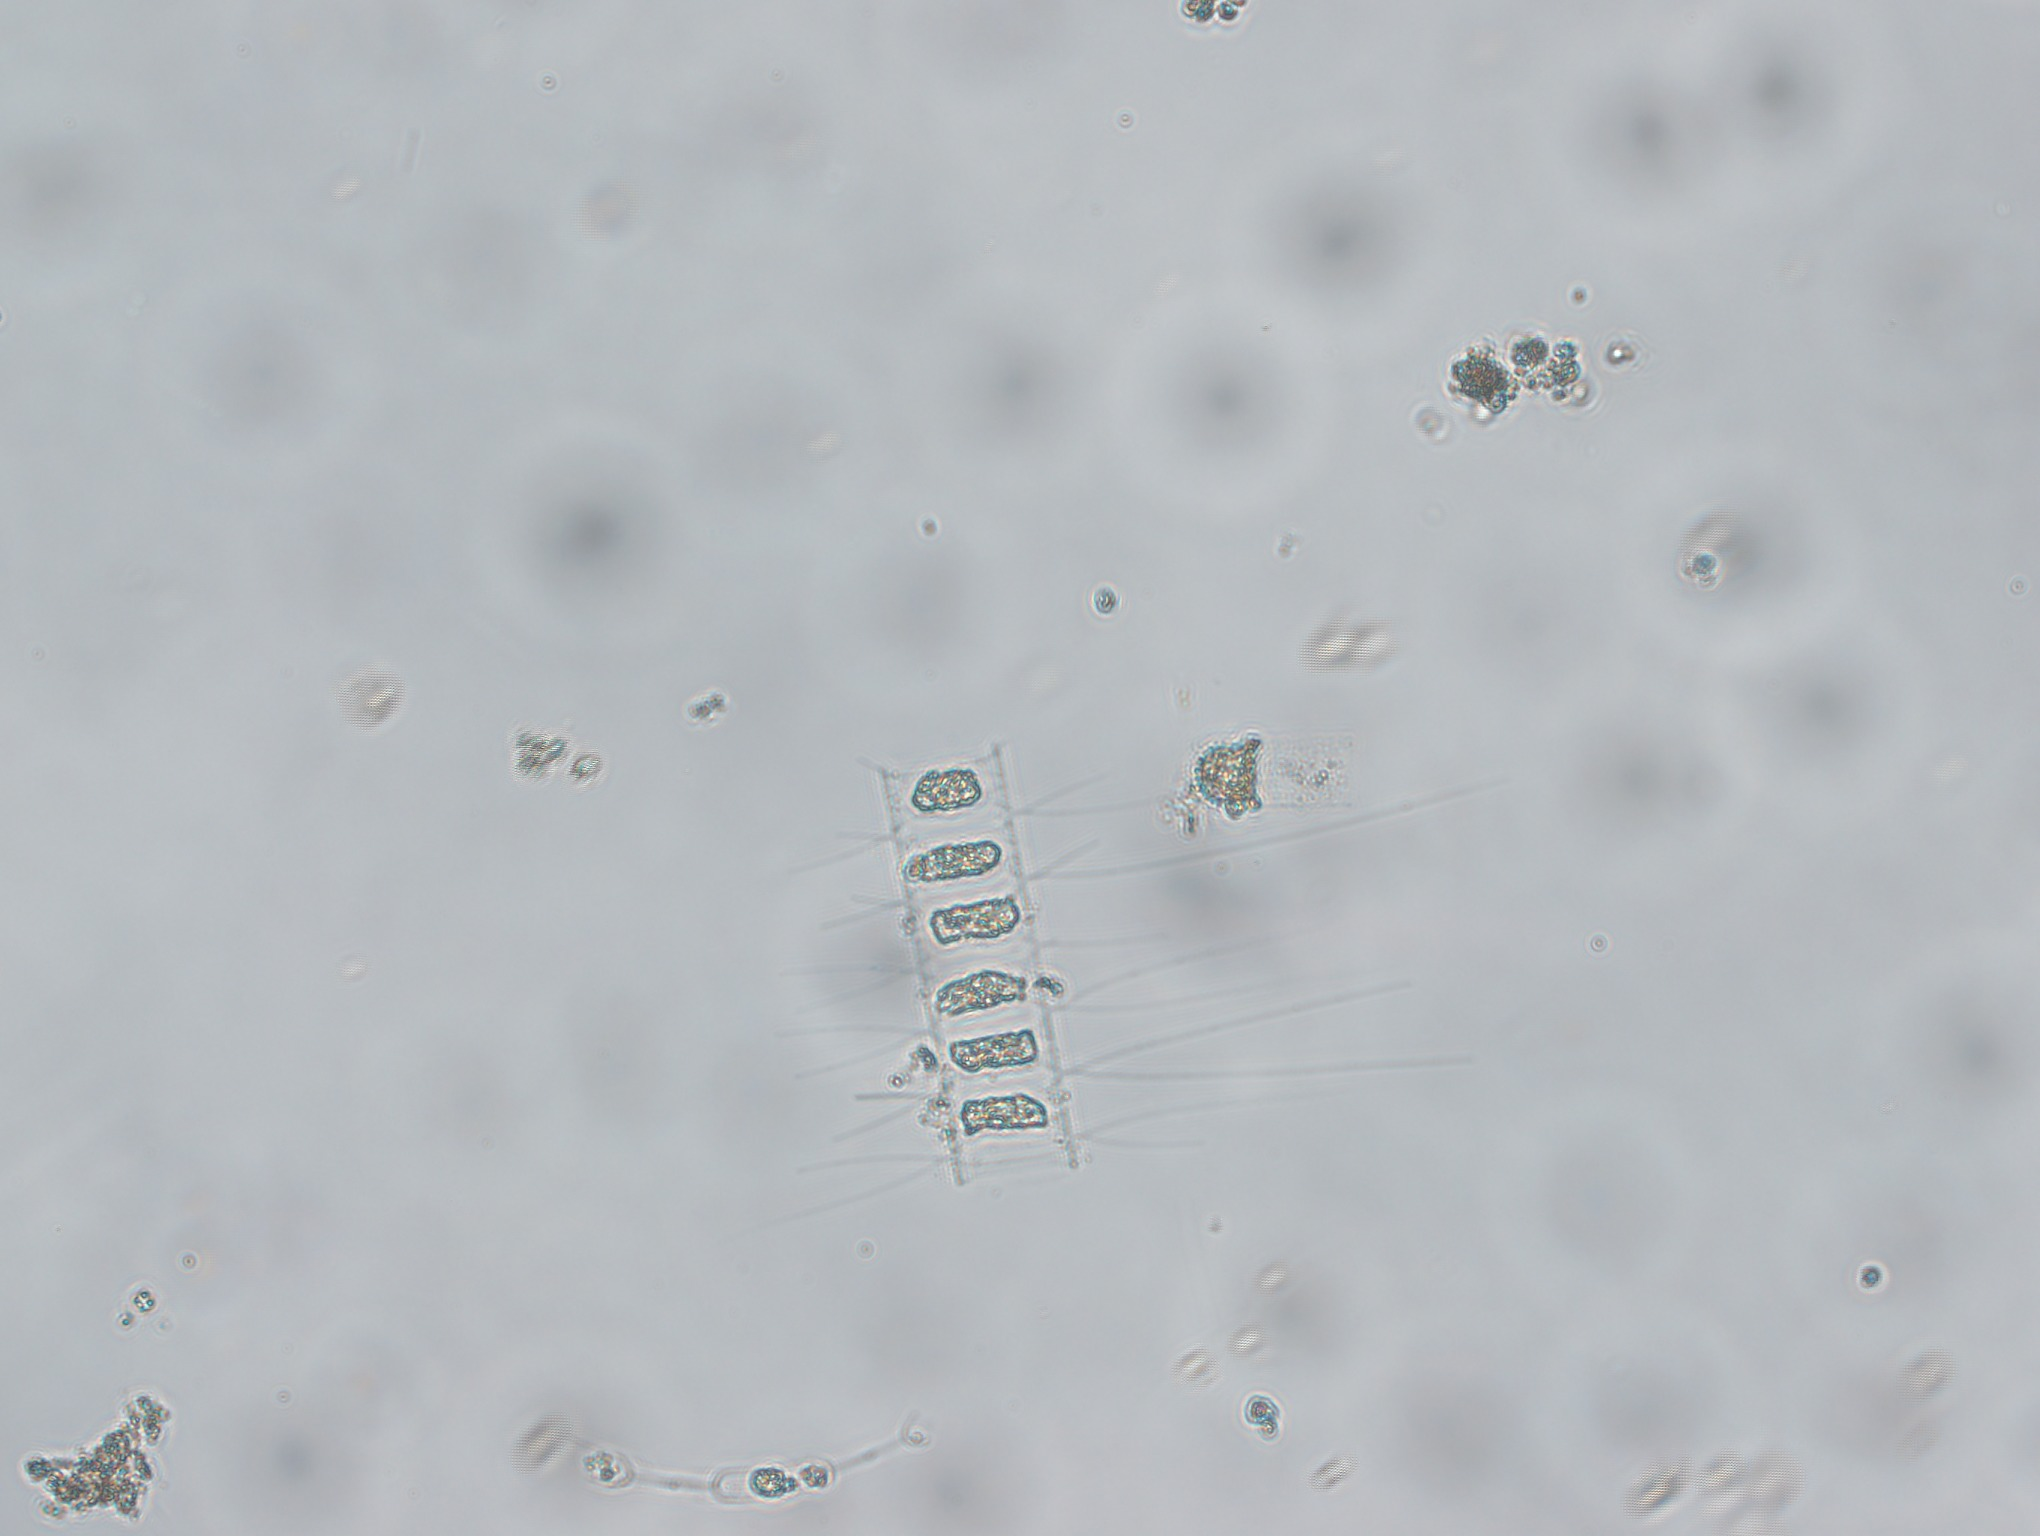chaetoceros: (735, 723, 1529, 1226)
